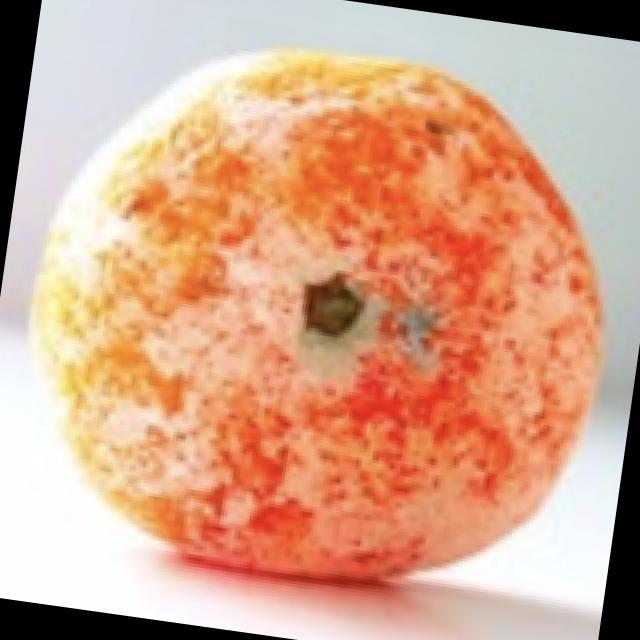rotten-orange: (6, 14, 640, 617)
